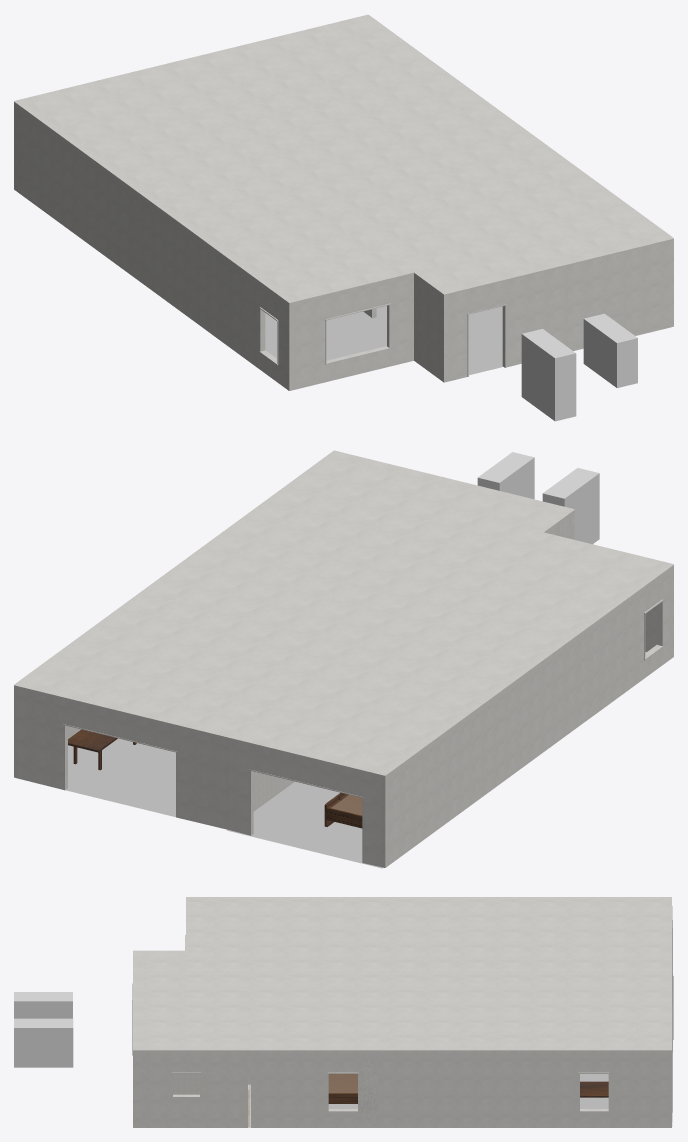
Rendered from GJHouse.fbx.
The picture shows the model from 3 angles, top to bottom: view 1: azimuth 30°, elevation 25°; view 2: azimuth 150°, elevation 25°; view 3: azimuth 270°, elevation 25°; orthographic projection. The views are drawn at different scales.
Parts seen in each view (by area): view 1: Plane, Cube.001, Cube.002, Plane.002, Plane.001; view 2: Plane, Plane.001, Plane.002, Cube.001, Cube.002, Cube.016, Cube.013; view 3: Plane, Cube.002, Cube.001, Cube.015, Plane.001, Cube.013.
Part boxes in pixels (x1=…): Plane: x1=14, y1=14, x2=673, y2=390; Cube.001: x1=521, y1=329, x2=576, y2=421; Cube.002: x1=583, y1=313, x2=637, y2=388; Plane.002: x1=265, y1=311, x2=386, y2=360; Plane.001: x1=364, y1=306, x2=503, y2=375; Plane: x1=14, y1=450, x2=673, y2=867; Plane.001: x1=17, y1=738, x2=226, y2=829; Plane.002: x1=227, y1=652, x2=646, y2=868; Cube.001: x1=542, y1=468, x2=599, y2=544; Cube.002: x1=477, y1=452, x2=534, y2=499; Cube.016: x1=324, y1=792, x2=362, y2=828; Cube.013: x1=68, y1=729, x2=136, y2=770; Plane: x1=132, y1=897, x2=672, y2=1127; Cube.002: x1=14, y1=1018, x2=73, y2=1067; Cube.001: x1=14, y1=992, x2=72, y2=1018; Cube.015: x1=328, y1=1074, x2=357, y2=1103; Plane.001: x1=580, y1=1074, x2=672, y2=1126; Cube.013: x1=580, y1=1081, x2=608, y2=1097.
Size of the model in its own units: 818 by 195 by 1485.
